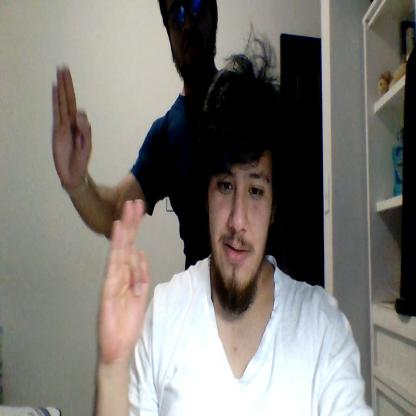F: (96, 198, 150, 358), (51, 64, 91, 184)
